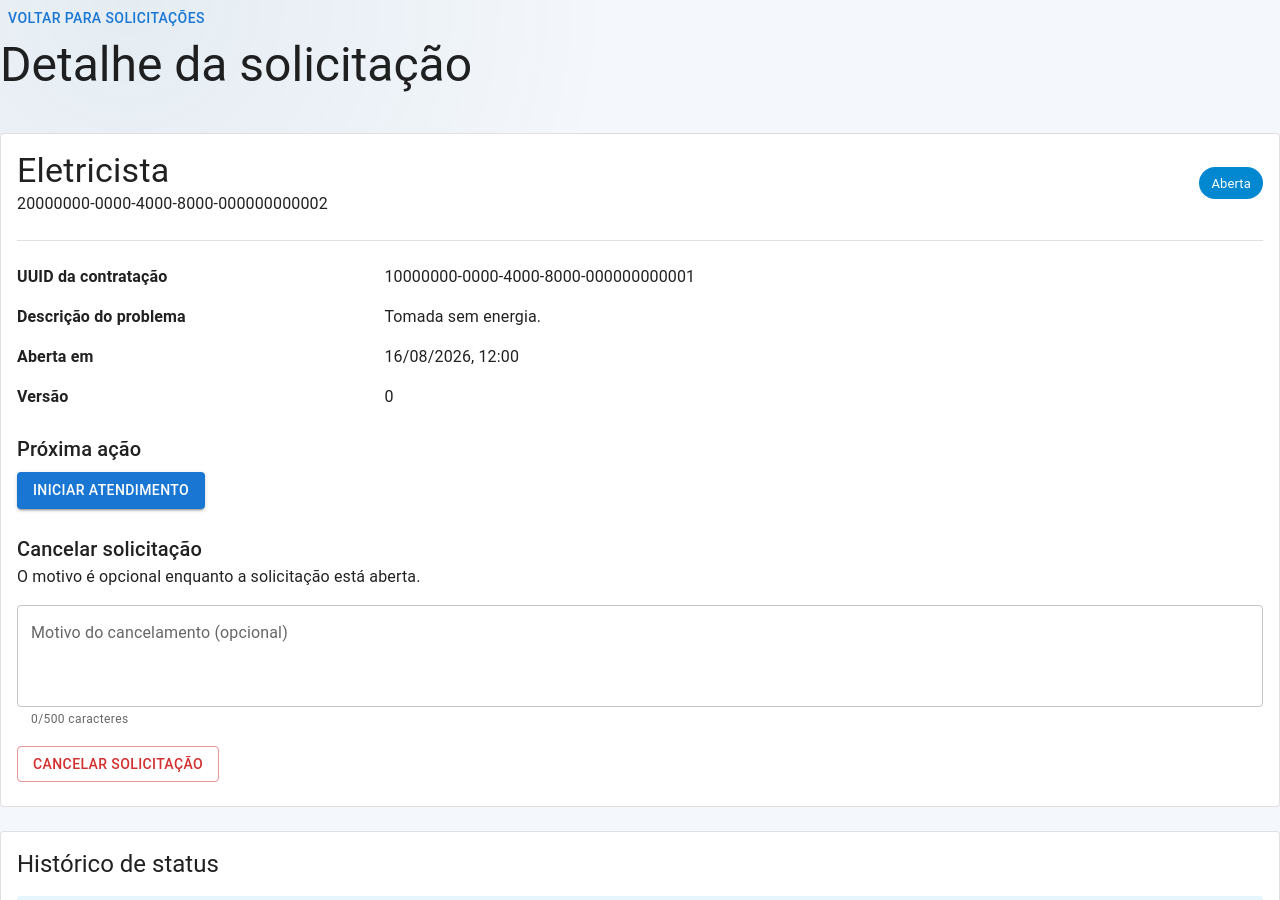
it: PaginaDetalheSolicitacao › cancela uma solicitacao aberta sem motivo
Click the button "Cancelar solicitação".
click(118, 764)  # box [17,746,219,782]
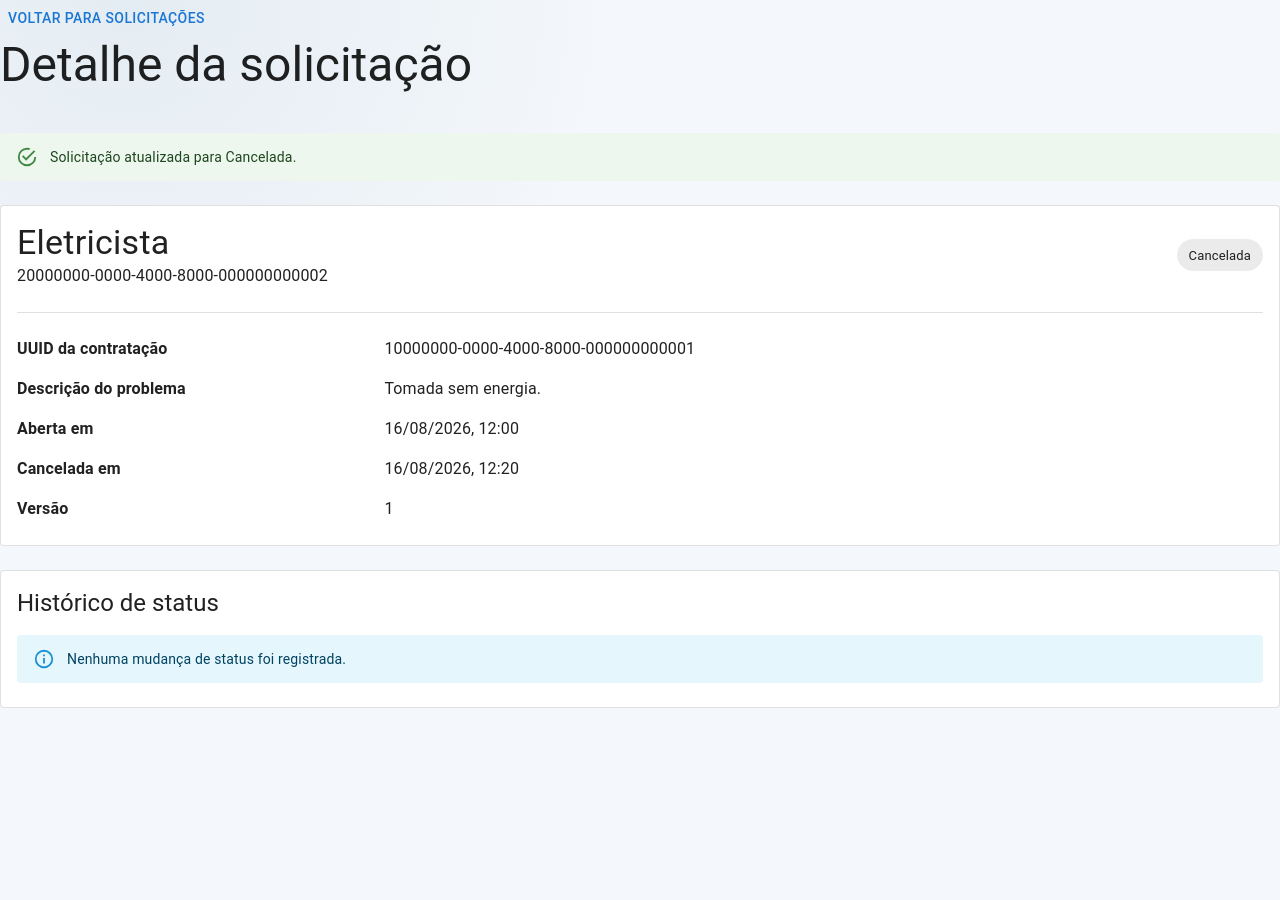
Result: the element named "Status: Cancelada" is shown at [1177,239,1263,271]
